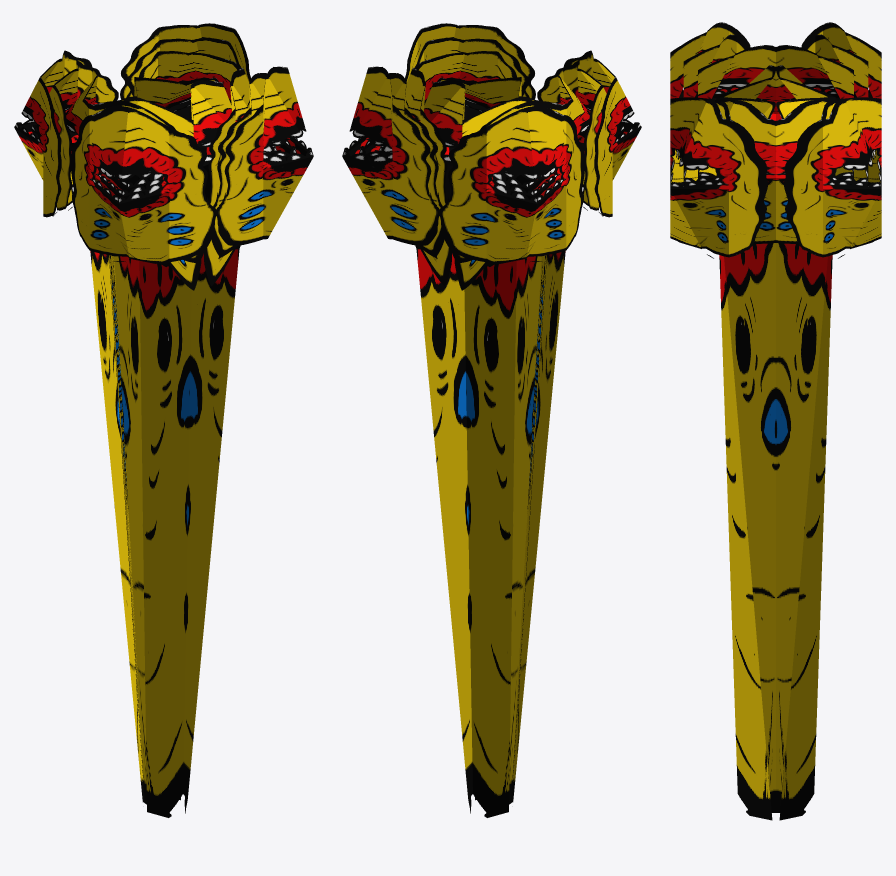
The model's file is HEADwithtextures.fbx.
The picture shows the model from 3 angles, left to right: view 1: azimuth 30°, elevation 25°; view 2: azimuth 150°, elevation 25°; view 3: azimuth 270°, elevation 25°; orthographic projection.
Visible parts, largest first — view 1: Cube; view 2: Cube; view 3: Cube.
Boxes of the visible parts, left/top/right/bottom form: Cube: left=14, top=23, right=313, bottom=817; Cube: left=342, top=23, right=641, bottom=817; Cube: left=670, top=22, right=881, bottom=820.
Size of the model in its own units: 3.86 by 14.87 by 3.6.
1 material, 1 textured.
